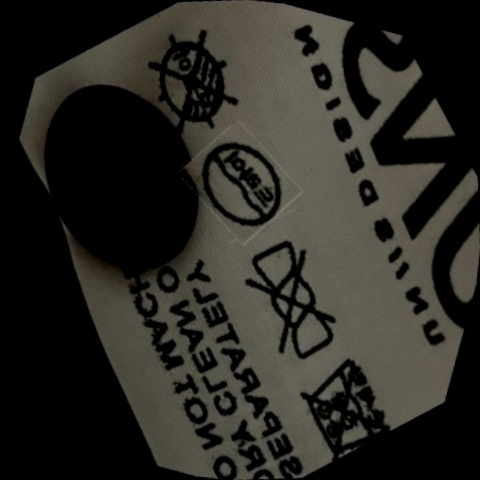DN_dry: (124, 13, 262, 153)
DN_wring: (213, 225, 369, 381)
dry_clean: (178, 120, 303, 248)
hand_wash: (278, 333, 411, 473)
